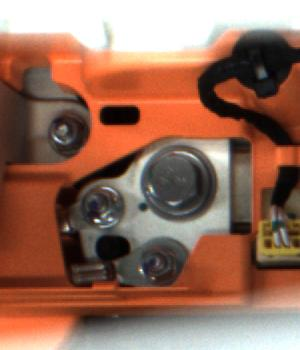nut_b: (137, 143, 221, 226)
screw_s: (83, 186, 128, 228), (43, 120, 92, 158), (138, 246, 180, 278)
